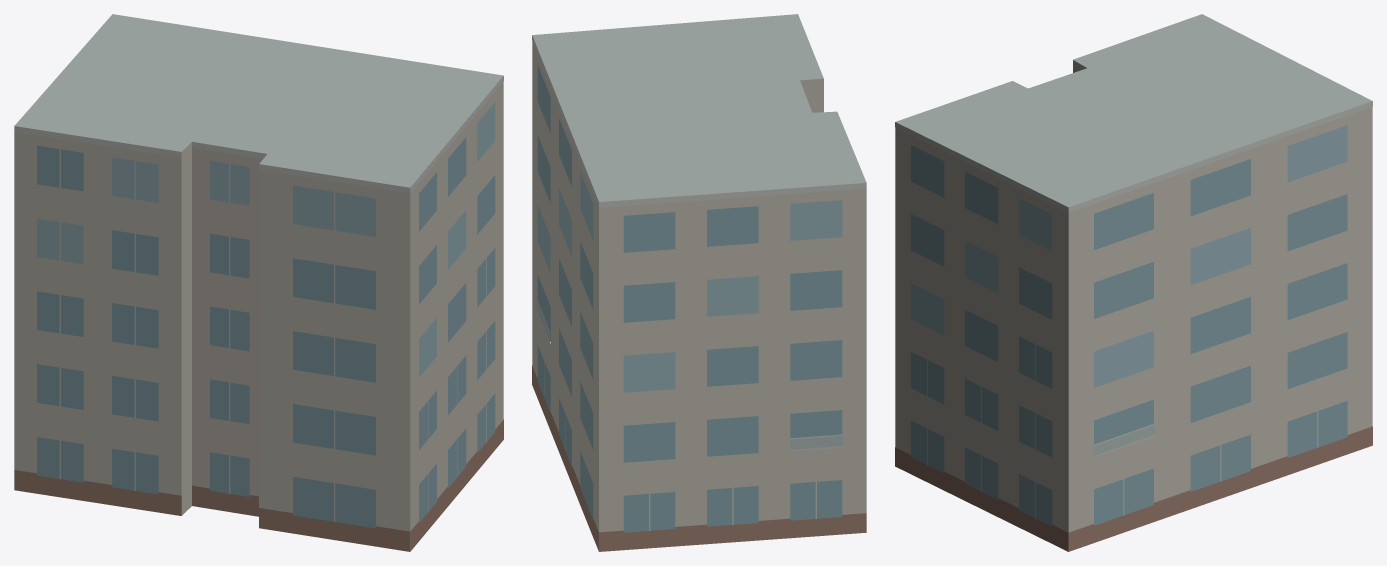
File: survey-upis-33011824.glb
3 views of the same model, side by side, from view 1: azimuth 30°, elevation 25°; view 2: azimuth 150°, elevation 25°; view 3: azimuth 270°, elevation 25° (orthographic). The views are drawn at different scales.
Visible parts, largest first — view 1: survey-upis-33011824.tmp; view 2: survey-upis-33011824.tmp; view 3: survey-upis-33011824.tmp.
Boxes of the visible parts, left/top/right/bottom form: survey-upis-33011824.tmp: left=14, top=14, right=503, bottom=551; survey-upis-33011824.tmp: left=532, top=14, right=866, bottom=551; survey-upis-33011824.tmp: left=895, top=14, right=1372, bottom=551.
Bounding box in the file's own units: 18.3 × 15.2 × 19.1.
